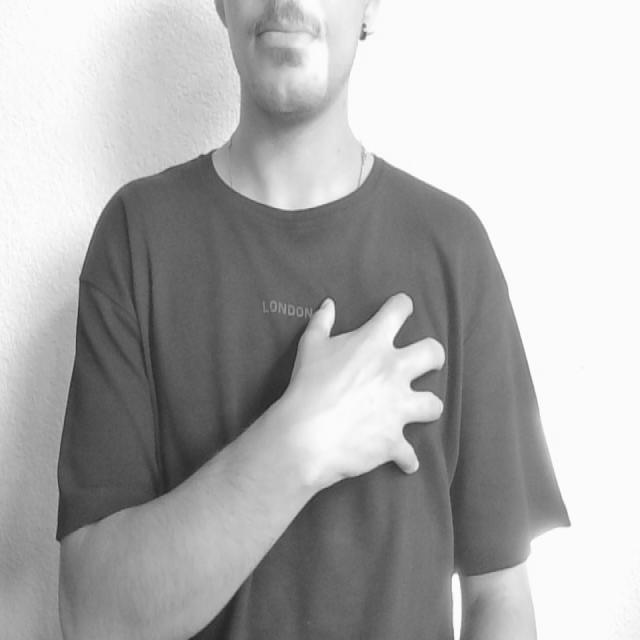Anne: (146, 282, 465, 497)
